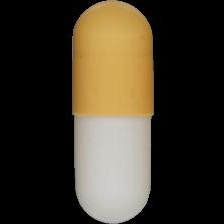54868-0106: (0, 0, 224, 224)
